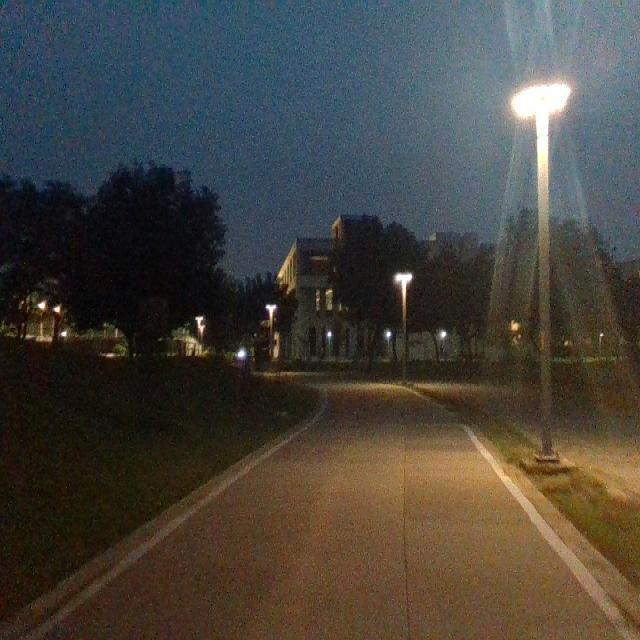lane: (44, 380, 626, 640)
